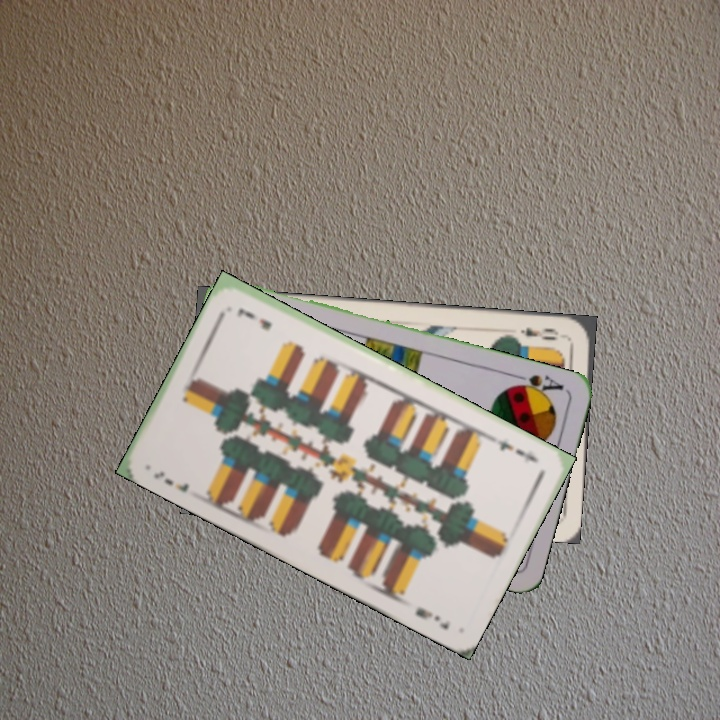E7: (490, 433, 542, 465), (150, 466, 192, 495)
EO: (516, 323, 561, 343)
SA: (506, 369, 567, 400)
